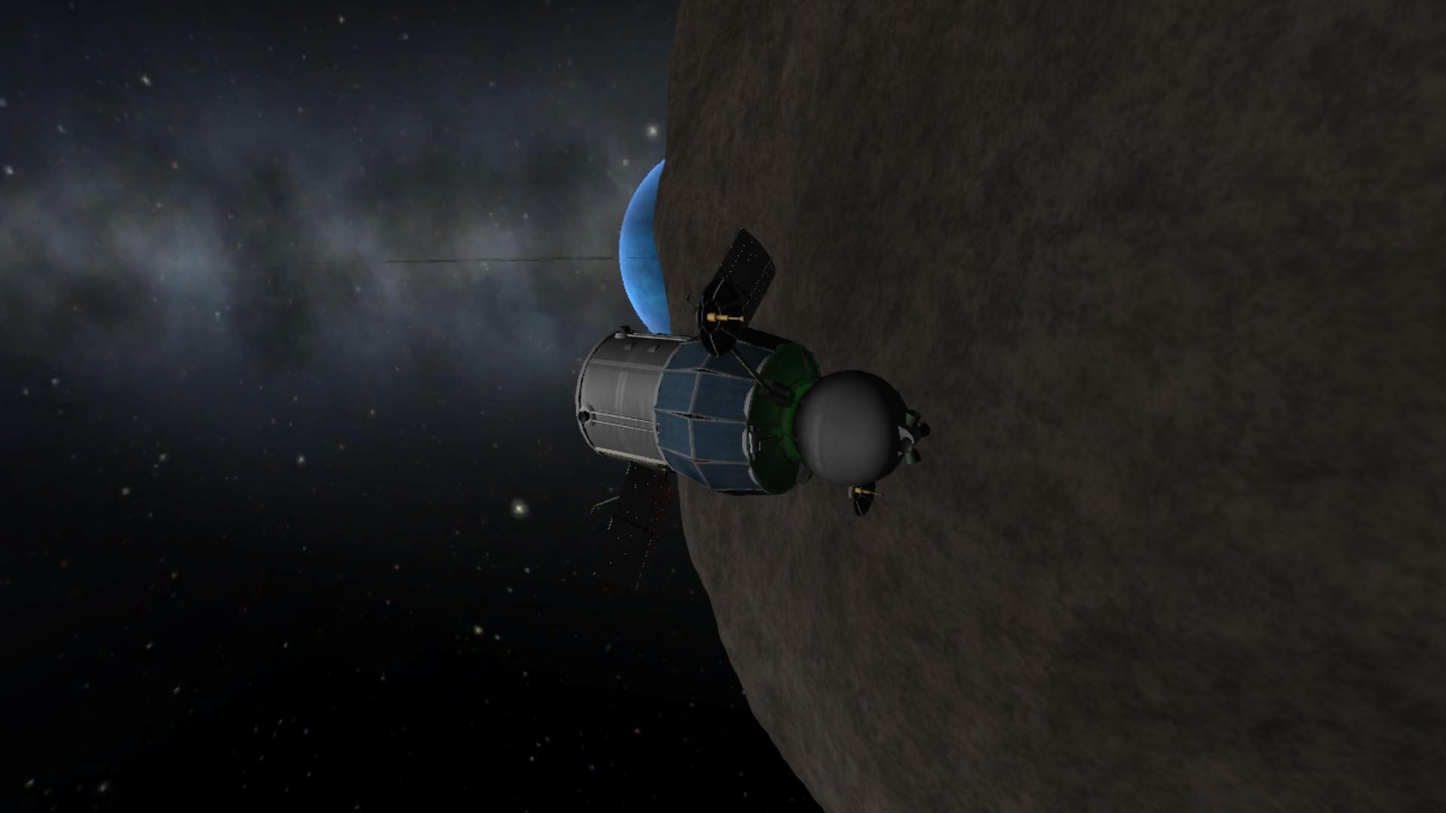antenna: (583, 458, 676, 600), (683, 224, 780, 330), (691, 276, 746, 359), (845, 476, 886, 519)
body: (572, 326, 828, 498)
solar: (651, 367, 757, 465), (664, 321, 796, 370), (658, 447, 772, 496)
thruster: (895, 436, 916, 458), (903, 446, 924, 468), (904, 407, 922, 432), (914, 422, 935, 437), (576, 410, 593, 425), (616, 323, 633, 335)
